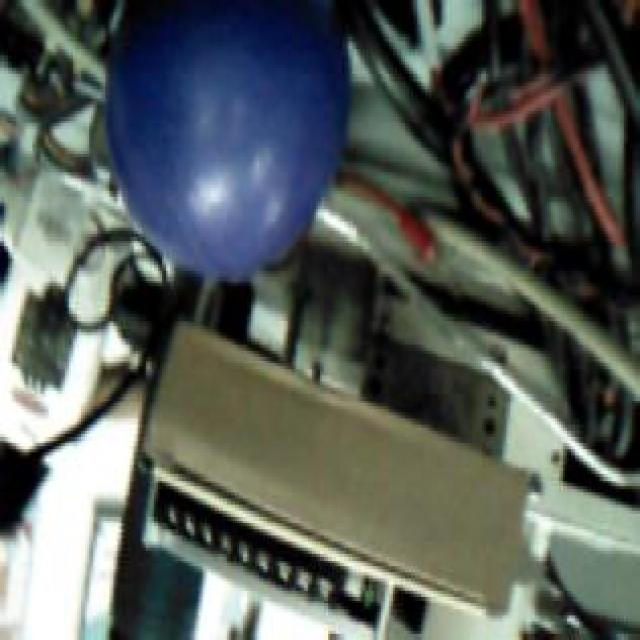BallPurple: (107, 0, 348, 280)
